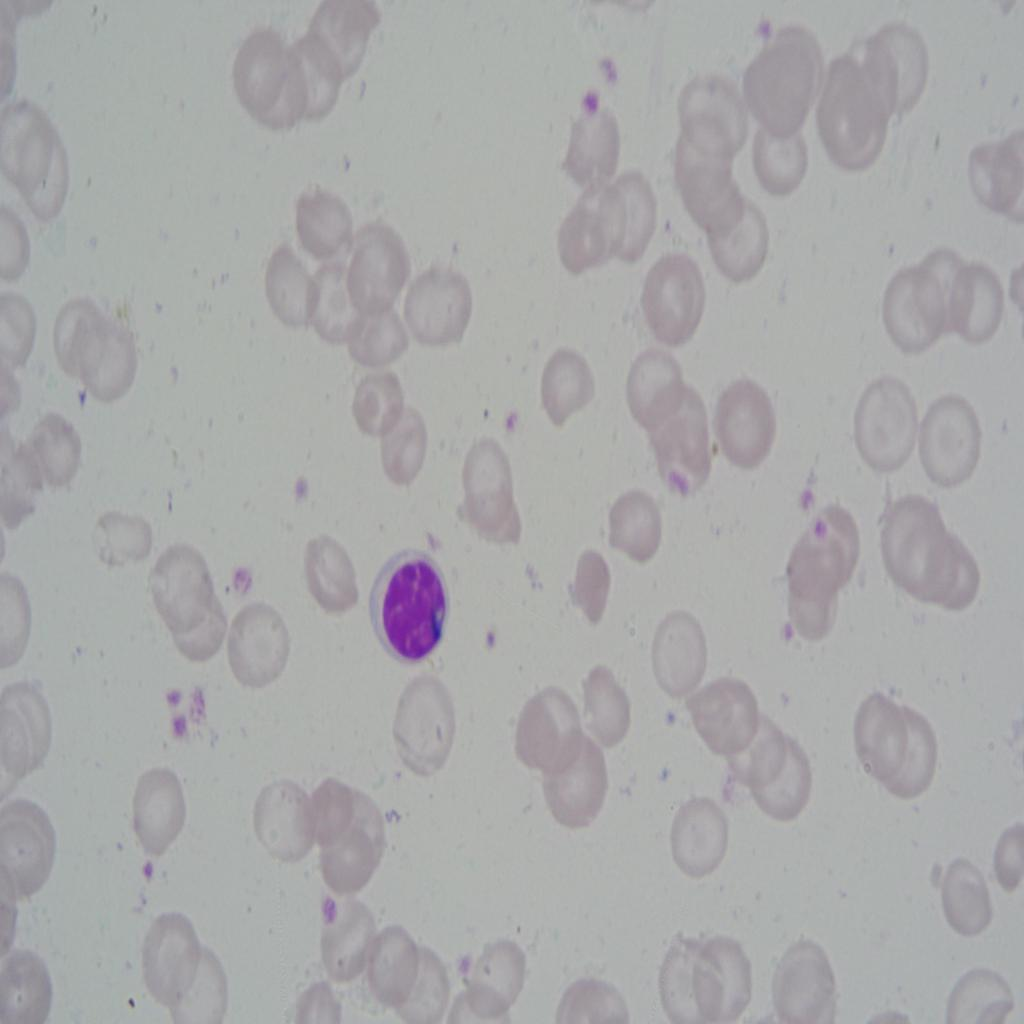Myeoblast: (369, 538, 453, 666)
Platelet: (224, 558, 258, 602), (600, 39, 623, 93), (651, 701, 679, 739), (751, 10, 778, 48), (496, 398, 522, 437), (320, 889, 347, 926), (294, 461, 314, 510), (580, 82, 605, 121), (480, 613, 502, 654), (139, 848, 167, 880), (70, 376, 101, 402), (159, 672, 181, 708), (662, 749, 680, 791), (776, 614, 799, 643), (472, 393, 492, 425), (174, 704, 190, 740), (812, 518, 835, 543), (669, 468, 686, 498), (799, 477, 814, 508)
